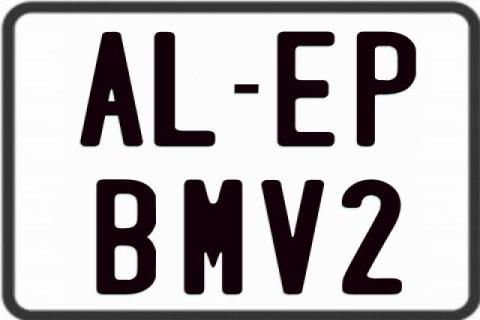0: (339, 179, 399, 299)
A: (79, 30, 147, 148)
B: (96, 179, 156, 299)
E: (276, 29, 337, 144)
L: (154, 32, 220, 150)
M: (183, 179, 242, 295)
P: (357, 31, 418, 147)
V: (258, 180, 322, 299)
